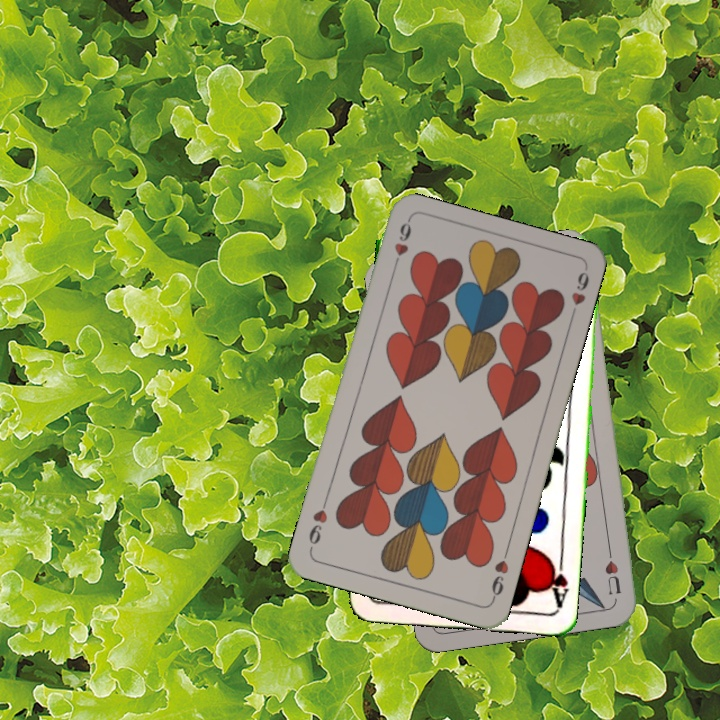H9: (388, 217, 414, 275), (487, 546, 512, 604)
HA: (543, 550, 571, 610)
HU: (600, 541, 623, 597)
